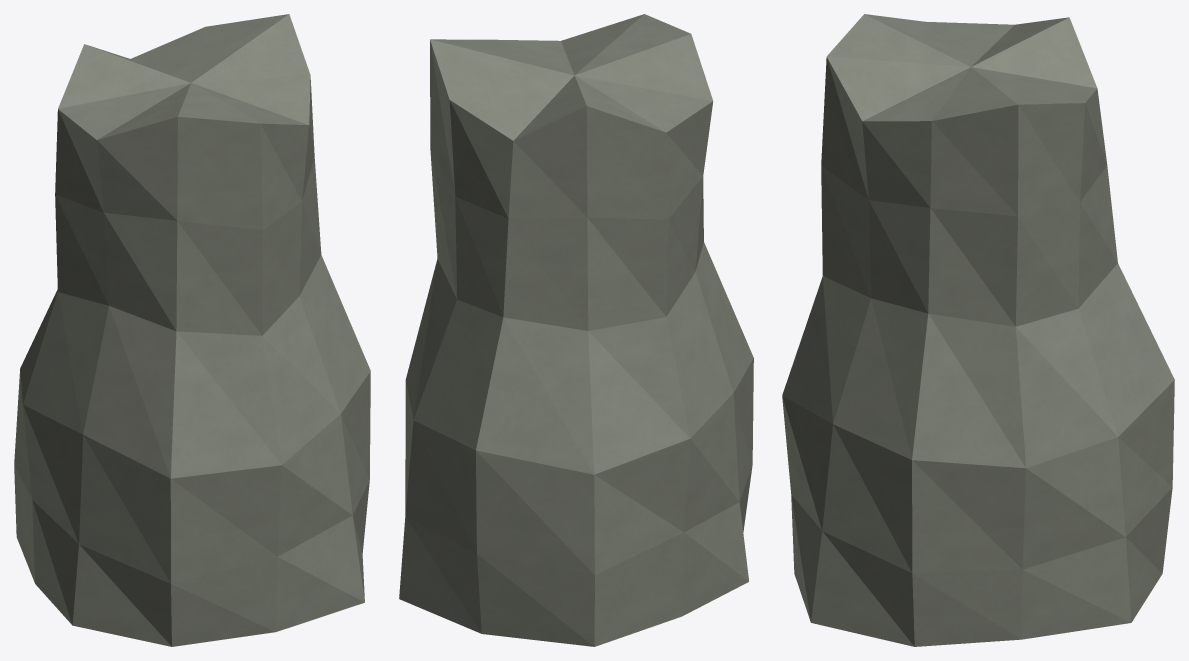
The picture shows the model from 3 angles, left to right: view 1: azimuth 30°, elevation 25°; view 2: azimuth 150°, elevation 25°; view 3: azimuth 270°, elevation 25°; orthographic projection. The views are drawn at different scales.
Parts seen in each view (by area): view 1: 破岩形状与干湿色尺寸族; view 2: 破岩形状与干湿色尺寸族; view 3: 破岩形状与干湿色尺寸族.
Part boxes in pixels (x1=…): 破岩形状与干湿色尺寸族: x1=14, y1=14, x2=370, y2=646; 破岩形状与干湿色尺寸族: x1=399, y1=14, x2=753, y2=646; 破岩形状与干湿色尺寸族: x1=782, y1=14, x2=1174, y2=646.
Size of the model in its own units: 2.33 by 4.01 by 2.56.
2 materials, 2 textured.
